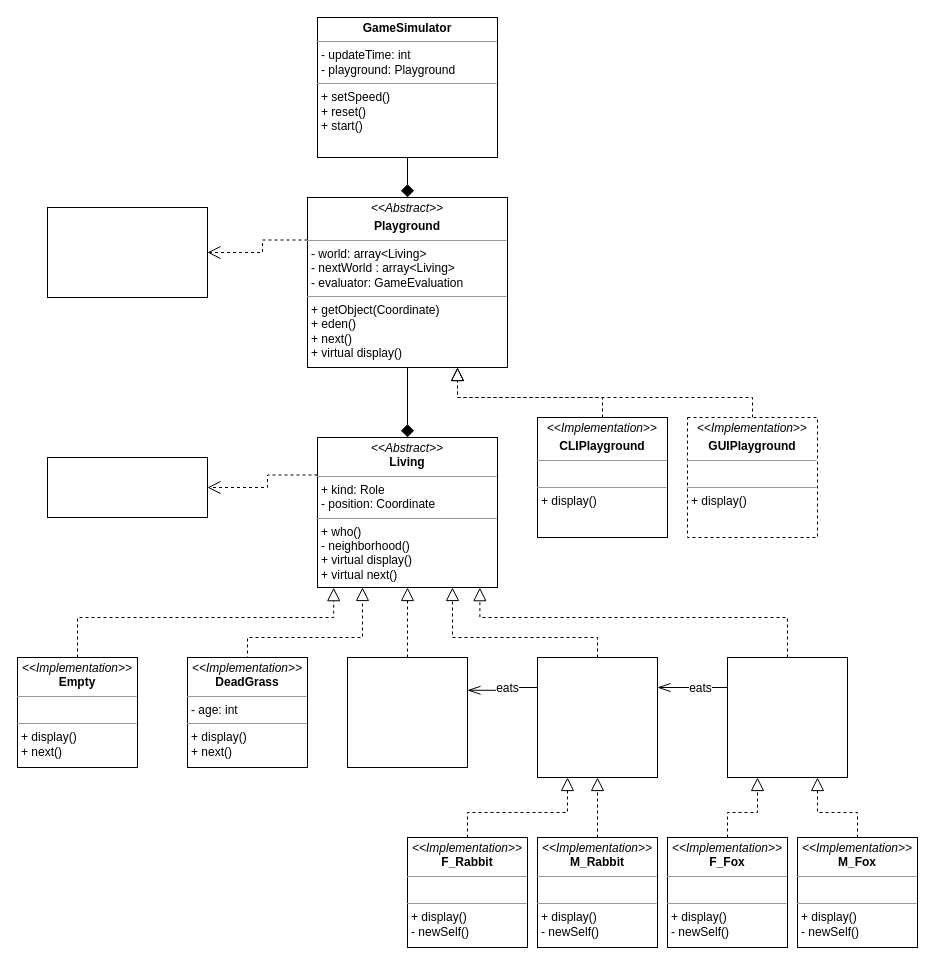
Image size: 935x965. Some labels were removed from this diagram. Each missing label, with the centre of its shape:
"<<Abstract>> Fox - age: int - foodlessCycles + next() - virtual newSelf()" belongs at point 787,717.
"<<Abstract>> Rabbit - age: int - foodlessCycles + next() - virtual newSelf()" belongs at point 597,717.
"<<Implementation>> Grass - height: int + display() + next()" belongs at point 407,712.
"Coordinate - x: int - y: int" belongs at point 127,487.
"GameEvaluation - world: const World_t & + displayStats()" belongs at point 127,252.
